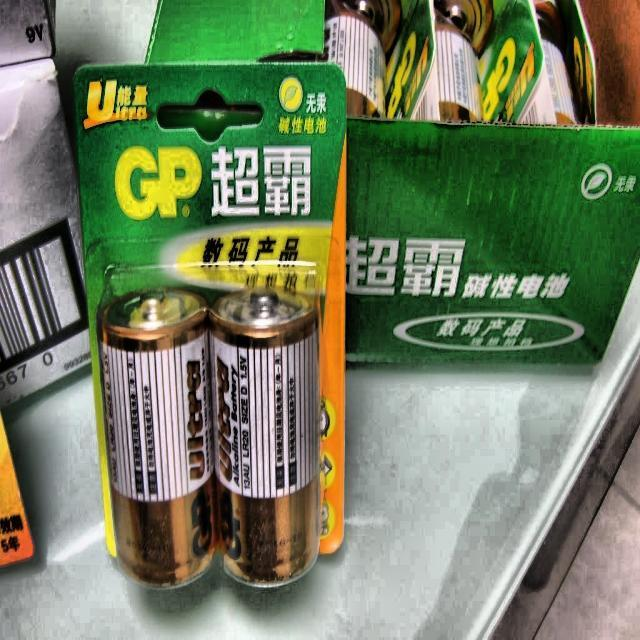battery: (98, 288, 216, 587), (209, 288, 320, 585)
